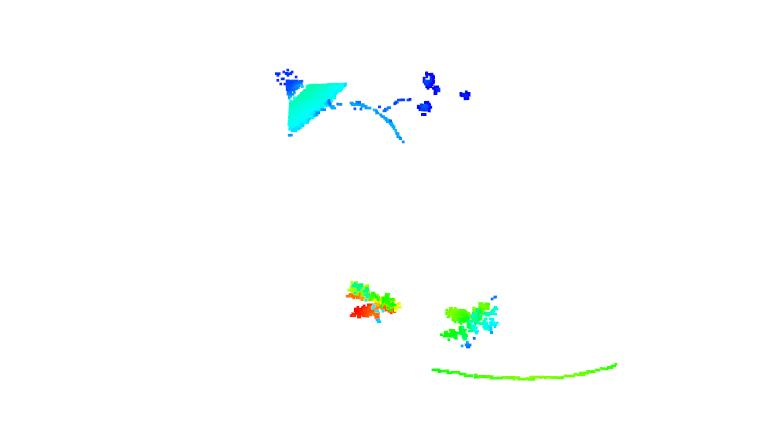chickpea: (438, 301, 503, 349), (340, 279, 407, 324)
